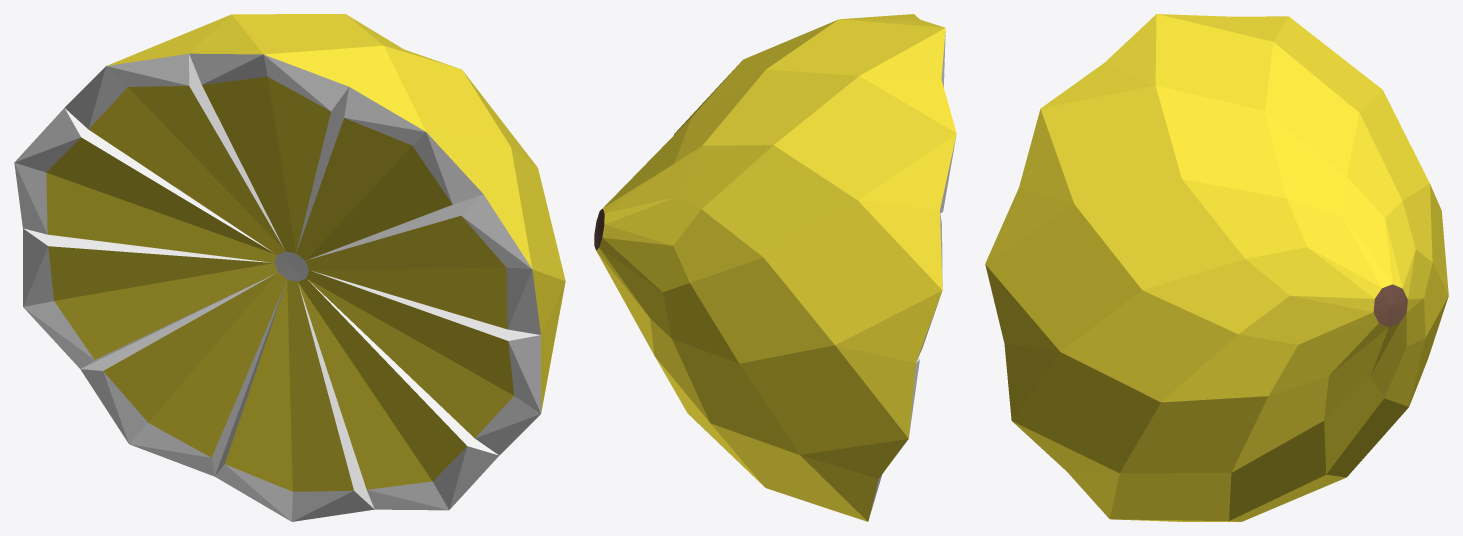
3 renders of one model, left to right at view 1: azimuth 30°, elevation 25°; view 2: azimuth 150°, elevation 25°; view 3: azimuth 270°, elevation 25°, orthographic. The views are drawn at different scales.
Parts seen in each view (by area): view 1: pSphere4; view 2: pSphere4; view 3: pSphere4.
Boxes of the visible parts, x1,y1,x2,y2 form: pSphere4: [14, 14, 565, 521]; pSphere4: [594, 14, 956, 521]; pSphere4: [985, 14, 1448, 521].
Size of the model in its own units: 195 by 239 by 212.
